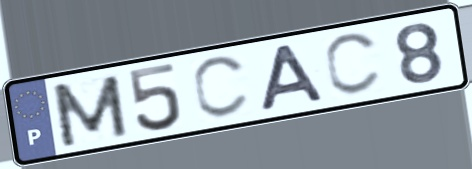5: (125, 60, 186, 134)
8: (393, 21, 447, 85)
A: (257, 41, 328, 115)
C: (190, 52, 253, 122), (322, 29, 385, 98)
M: (47, 71, 132, 150)
